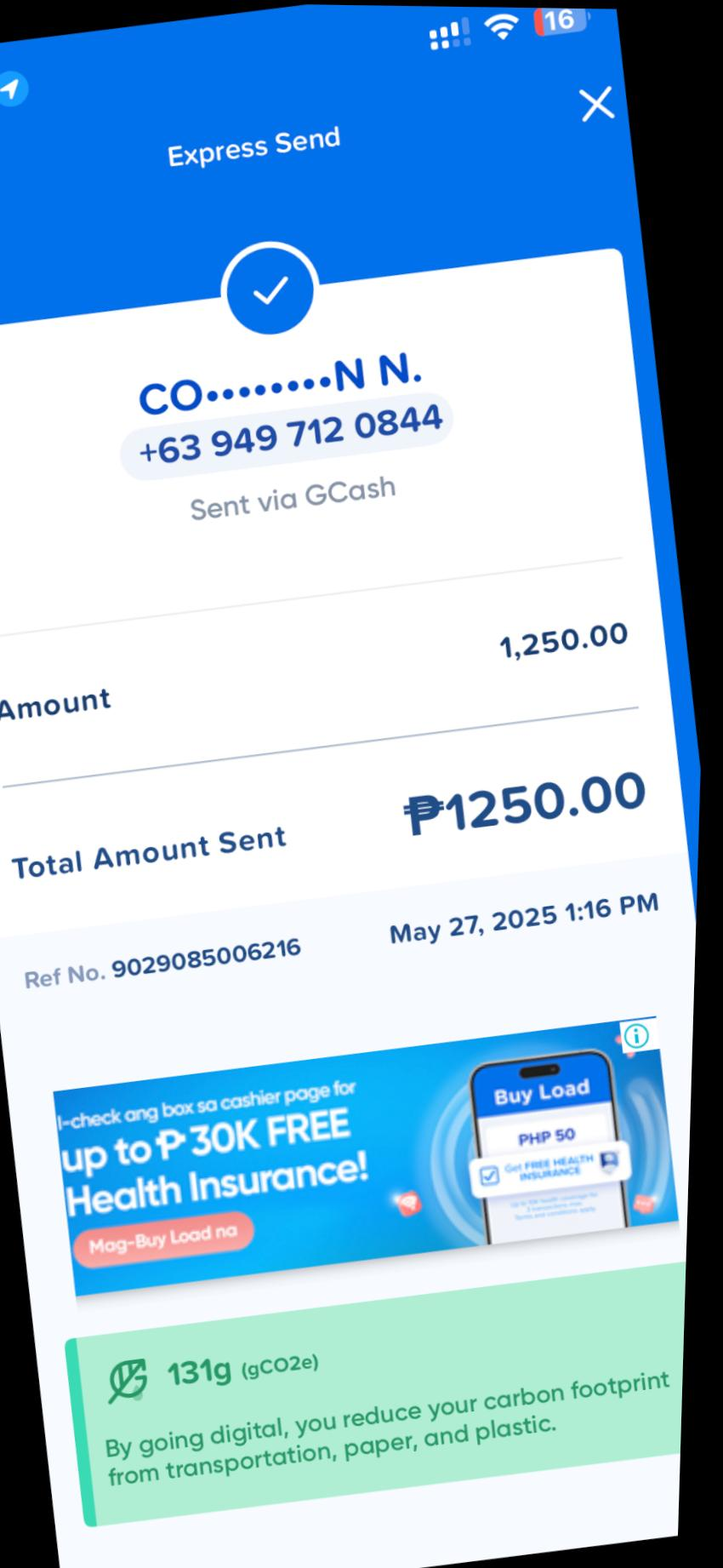Receipt: (0, 41, 701, 1568)
